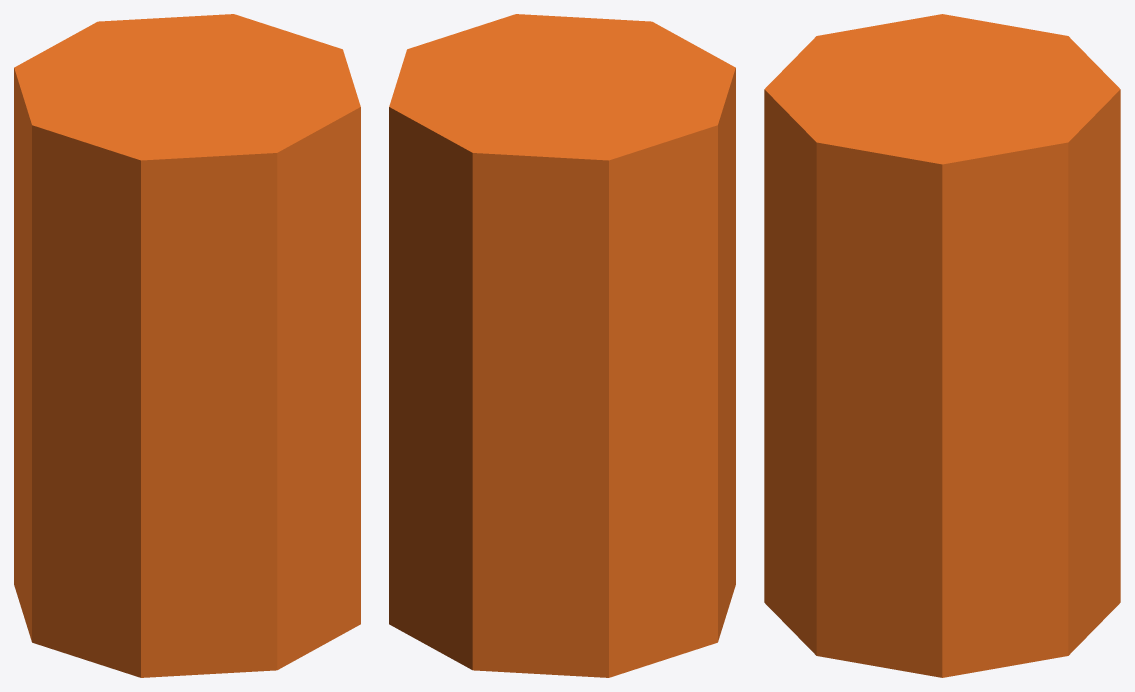
Rendered from env_mic_043.glb.
3 renders of one model, left to right at view 1: azimuth 30°, elevation 25°; view 2: azimuth 150°, elevation 25°; view 3: azimuth 270°, elevation 25°, orthographic.
Parts seen in each view (by area): view 1: container.002; view 2: container.002; view 3: container.002.
Part boxes in pixels (x1,y1,x2,y2): container.002: (14, 14, 360, 677); container.002: (389, 14, 735, 677); container.002: (764, 14, 1120, 677).
Size of the model in its own units: 0.44 by 0.7 by 0.44.
